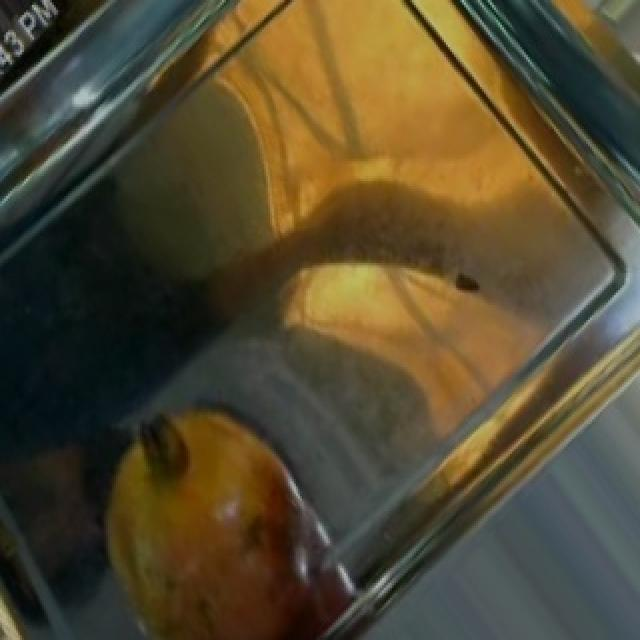fruit: (72, 377, 336, 640)
